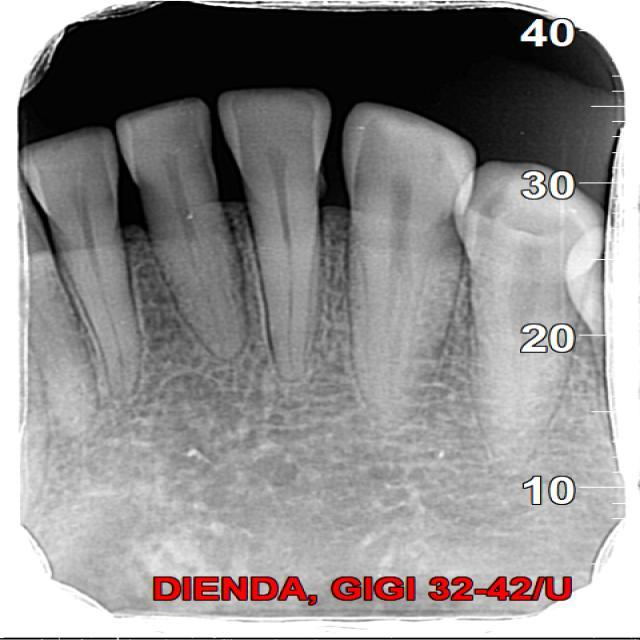individual-tooth-8tto: (337, 99, 477, 429), (218, 88, 333, 377), (18, 130, 141, 397), (114, 97, 239, 356)
